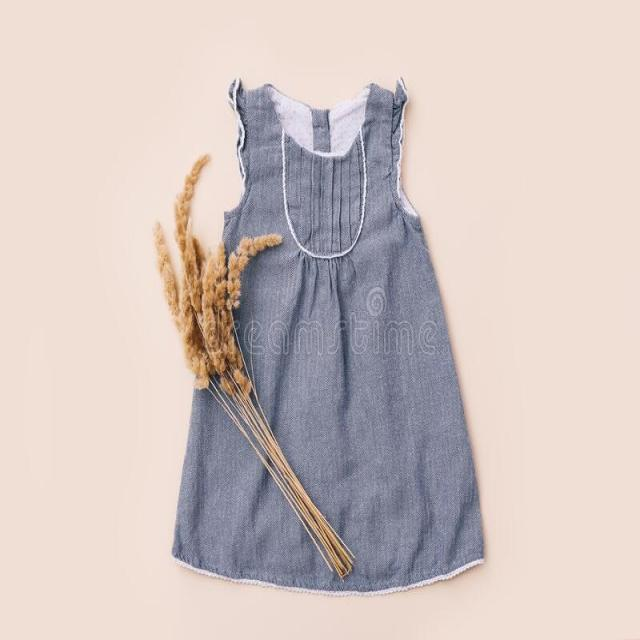clothes: (215, 62, 490, 592)
